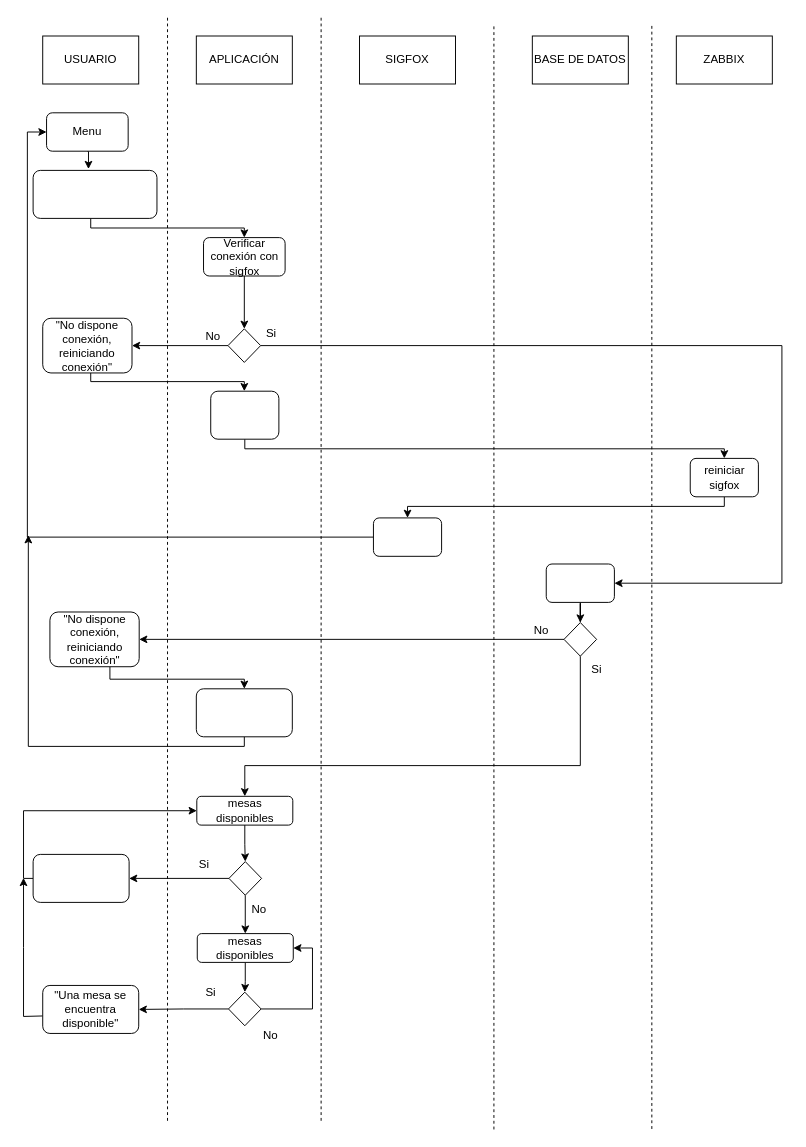
Some shapes in this 806 by 1147 pixel diagram are drawn without their labels. Here are the shapes that lost their labels. From the top down, the centre of each, then its label:
(x=94, y=193): Activar la opcion "Notificar cuando una mesa este disponible"
(x=244, y=414): Reiniciar conexión con sigfox
(x=407, y=536): reinicio
(x=579, y=582): Verificar conexion
(x=243, y=712): Reiniciar conexión con la base de datos
(x=80, y=877): "Actualmente existen mesas disponibles"
